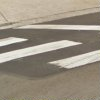crosswalk: (0, 35, 100, 69)
